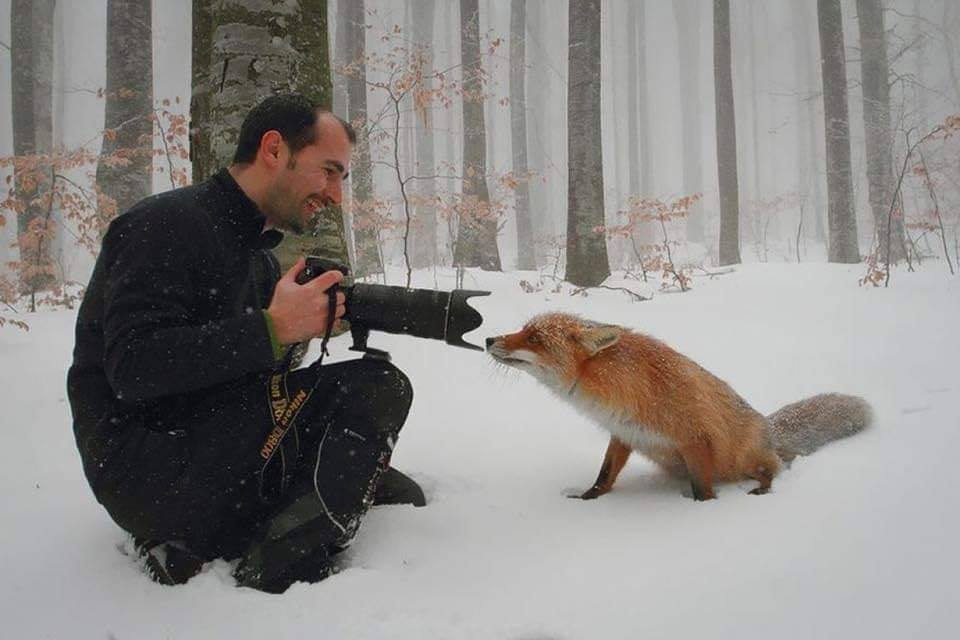camera: (289, 255, 485, 355)
fox: (483, 311, 880, 510)
person: (62, 91, 429, 601)
